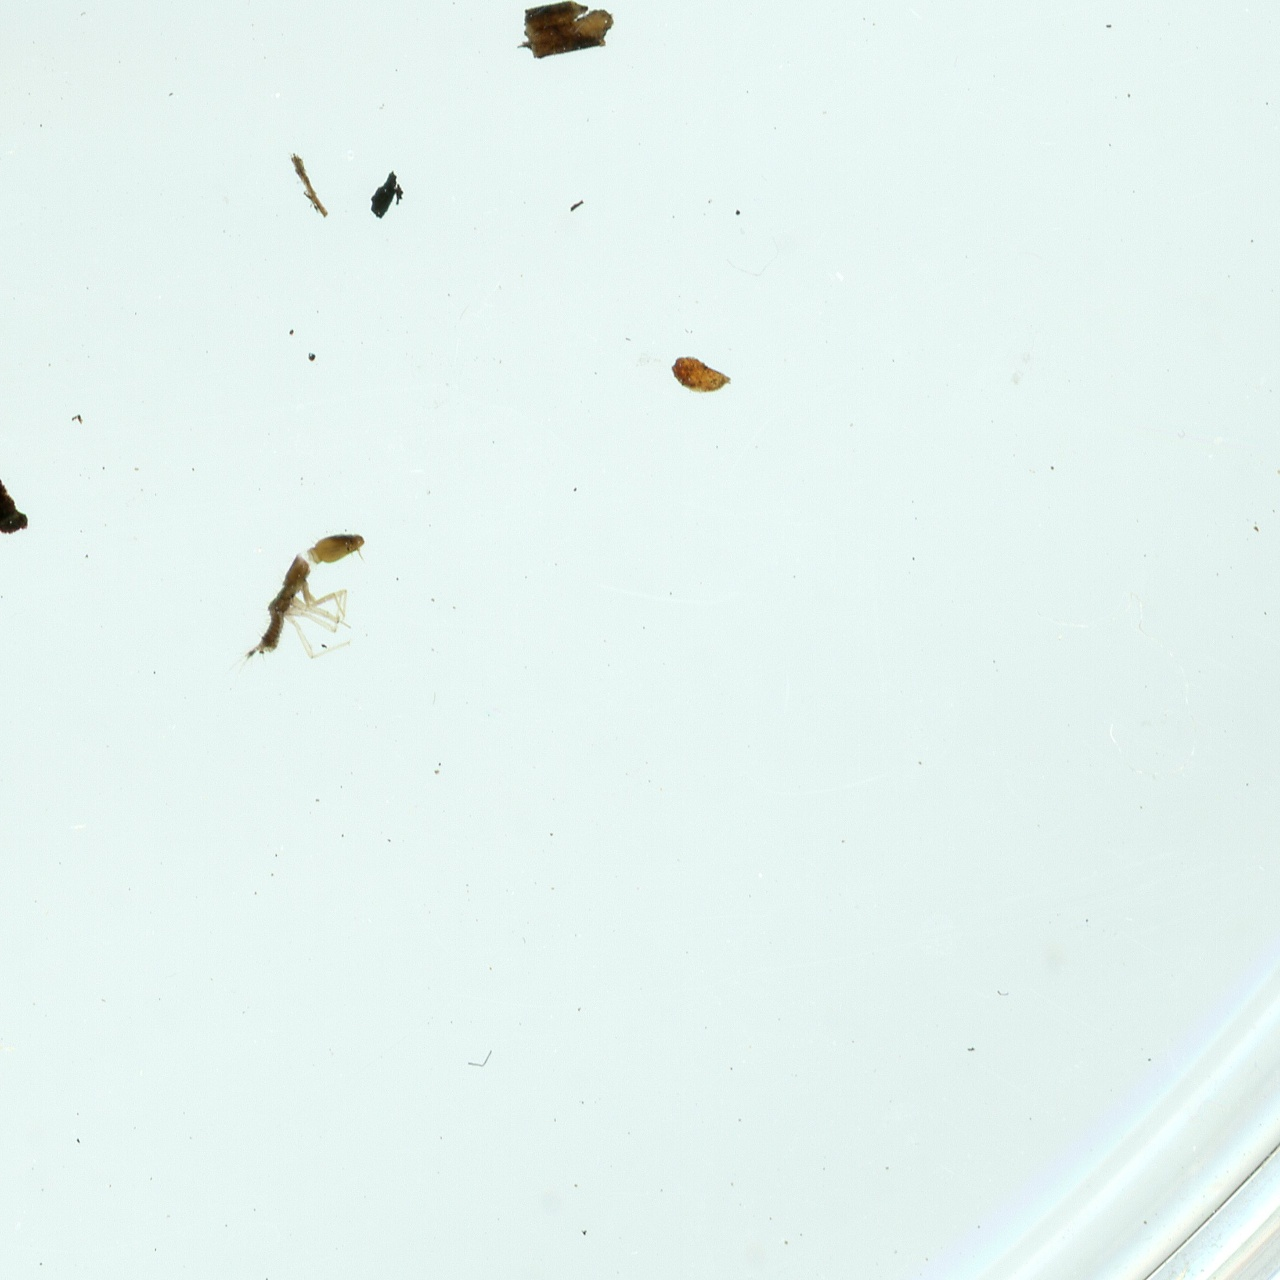arthropod: (229, 525, 373, 680)
